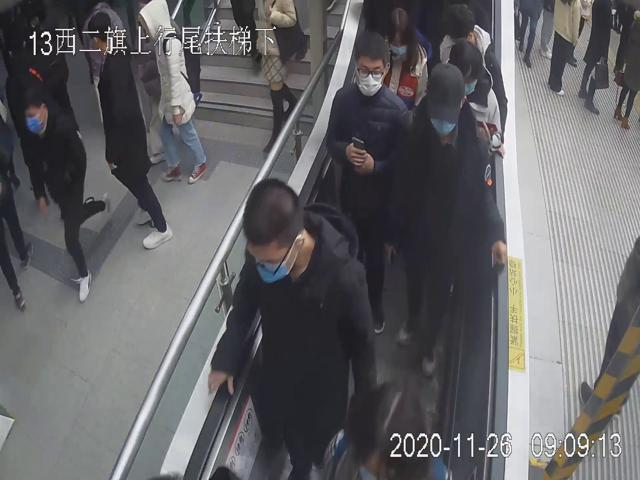person: (207, 173, 378, 480), (393, 61, 507, 375), (324, 24, 411, 338), (19, 81, 111, 302), (89, 16, 173, 253)
